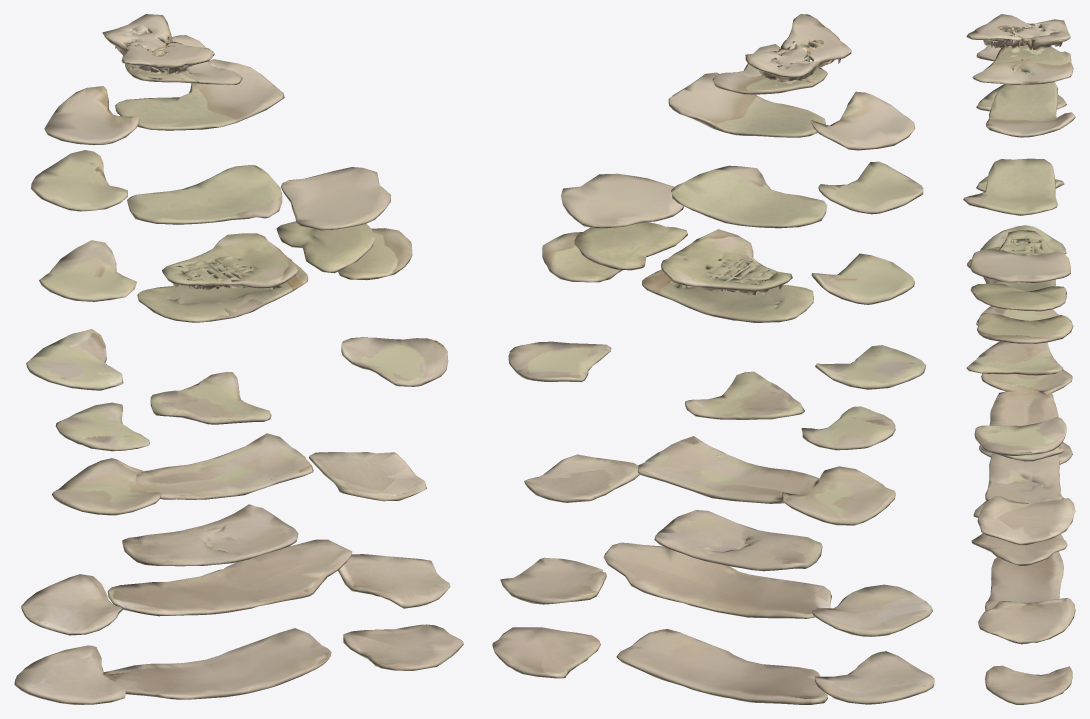
The model's file is Floating_Shelves_Form.glb.
The picture shows the model from 3 angles, left to right: view 1: azimuth 30°, elevation 25°; view 2: azimuth 150°, elevation 25°; view 3: azimuth 270°, elevation 25°; orthographic projection. The views are drawn at different scales.
Visible parts, largest first — view 1: Floating_Shelves_Form; view 2: Floating_Shelves_Form; view 3: Floating_Shelves_Form.
Part boxes in pixels (x1,y1,x2,y2): Floating_Shelves_Form: [14, 14, 463, 704]; Floating_Shelves_Form: [492, 14, 934, 704]; Floating_Shelves_Form: [963, 14, 1075, 704].
Size of the model in its own units: 1.33 by 1.99 by 0.3608.
Materials: 1 (1 with a texture image).
